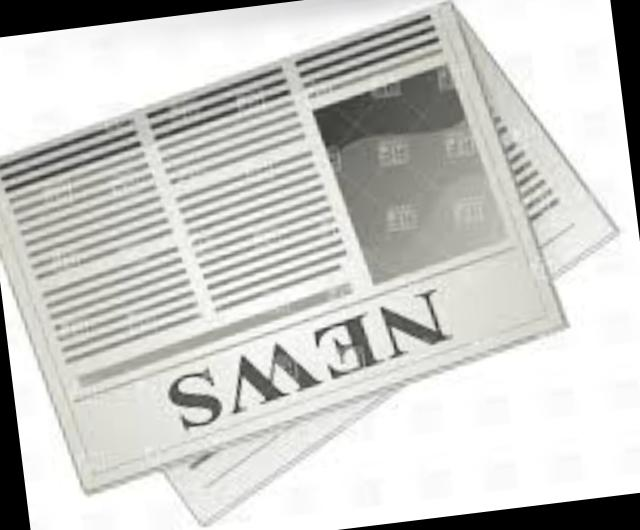cardboard paper: (0, 9, 620, 527)
